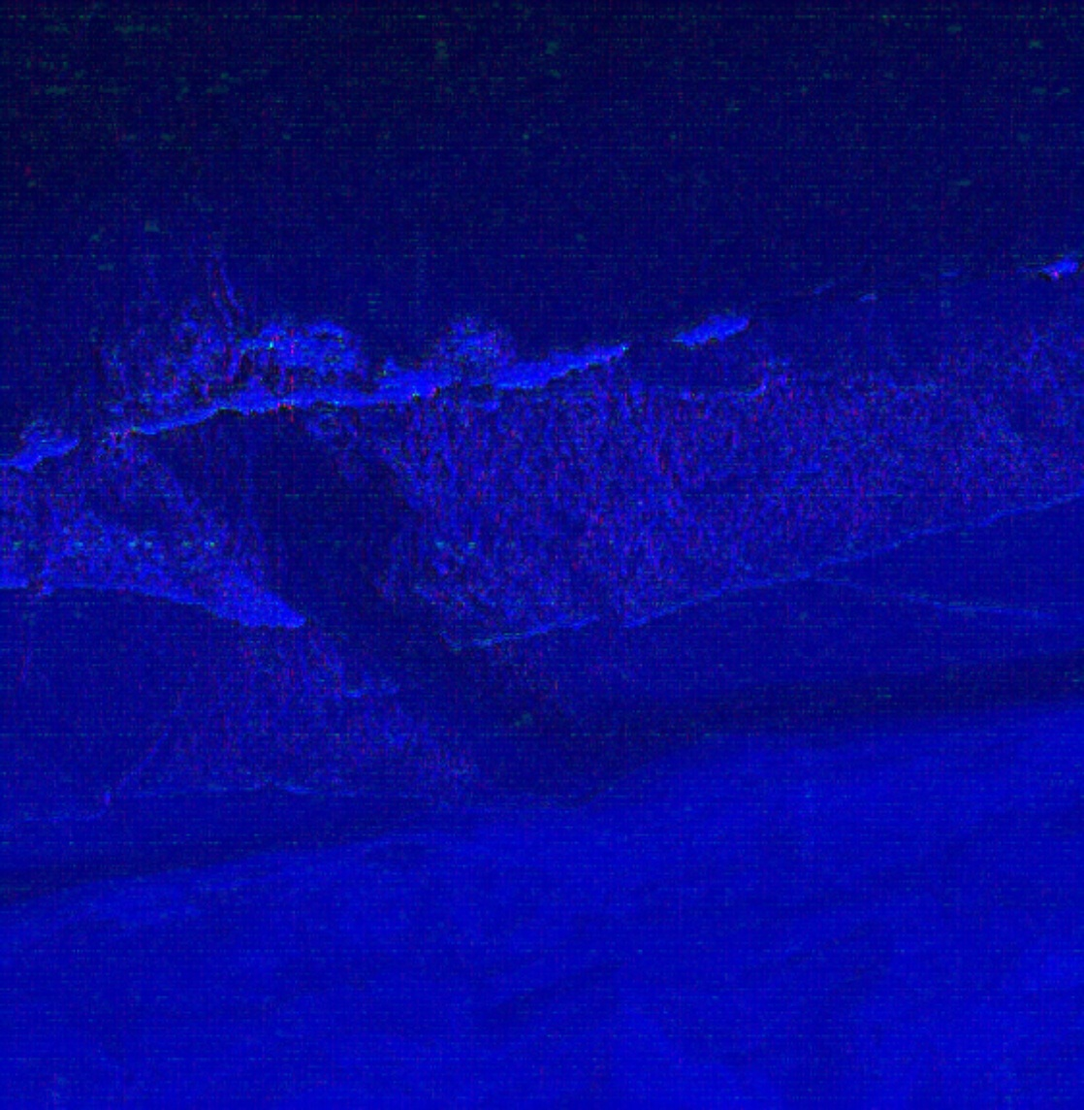rip_current: (75, 209, 564, 742)
